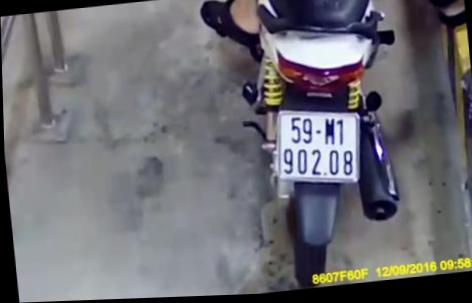LP: (268, 101, 367, 196)
